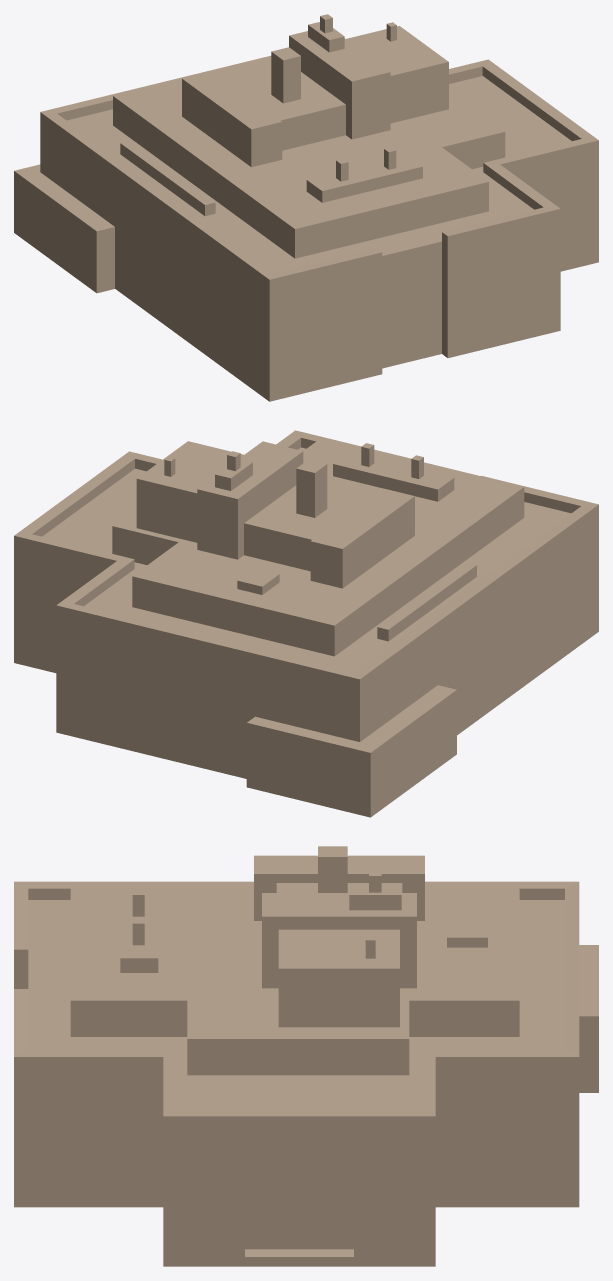
3 views of the same model, one above another, from view 1: azimuth 30°, elevation 25°; view 2: azimuth 150°, elevation 25°; view 3: azimuth 270°, elevation 25° (orthographic). The views are drawn at different scales.
Parts seen in each view (by area): view 1: pCube5; view 2: pCube5; view 3: pCube5.
Part boxes in pixels (x1,y1,x2,y2): pCube5: (14, 14, 598, 401); pCube5: (14, 430, 598, 817); pCube5: (14, 846, 598, 1266).
Size of the model in its own units: 48.79 by 26.05 by 49.12.
